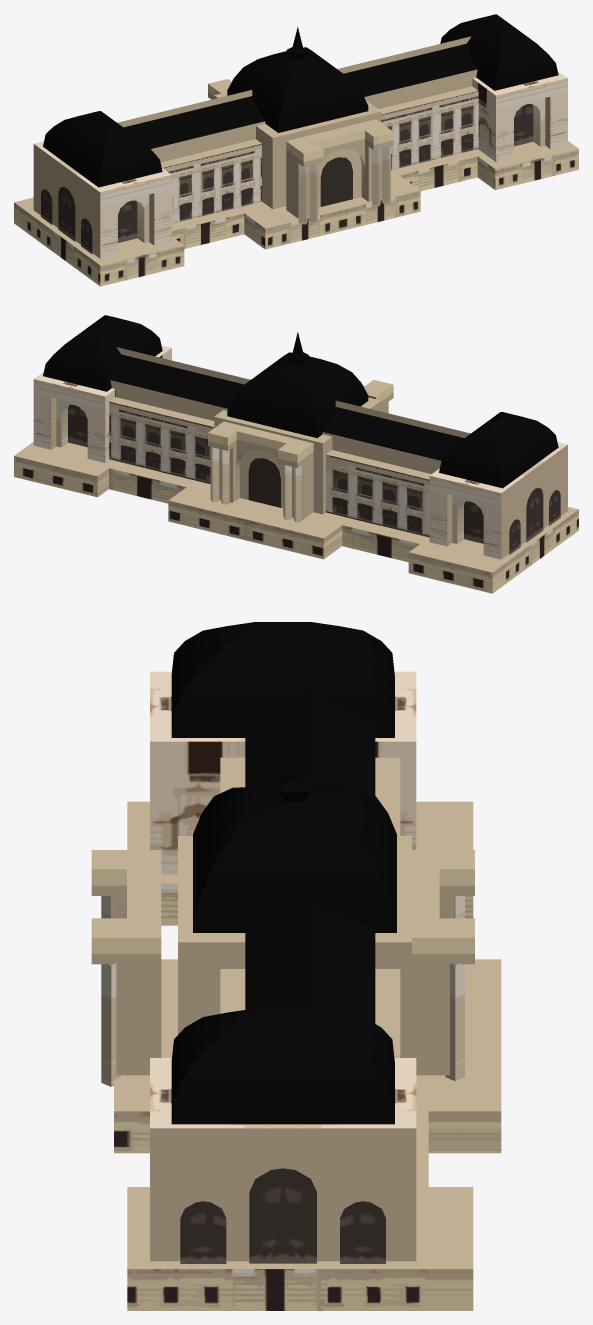
The model's file is SM_Building_ExpositionPark_01.fbx.
The picture shows the model from 3 angles, top to bottom: view 1: azimuth 30°, elevation 25°; view 2: azimuth 150°, elevation 25°; view 3: azimuth 270°, elevation 25°; orthographic projection. The views are drawn at different scales.
Visible parts, largest first — view 1: SM_Building_ExpositionPark_01; view 2: SM_Building_ExpositionPark_01; view 3: SM_Building_ExpositionPark_01.
Part boxes in pixels (bbox=[...]): SM_Building_ExpositionPark_01: bbox=[14, 14, 578, 286]; SM_Building_ExpositionPark_01: bbox=[14, 315, 578, 593]; SM_Building_ExpositionPark_01: bbox=[91, 622, 501, 1310].
Bounding box in the file's own units: 47.6 × 16.27 × 17.66.
